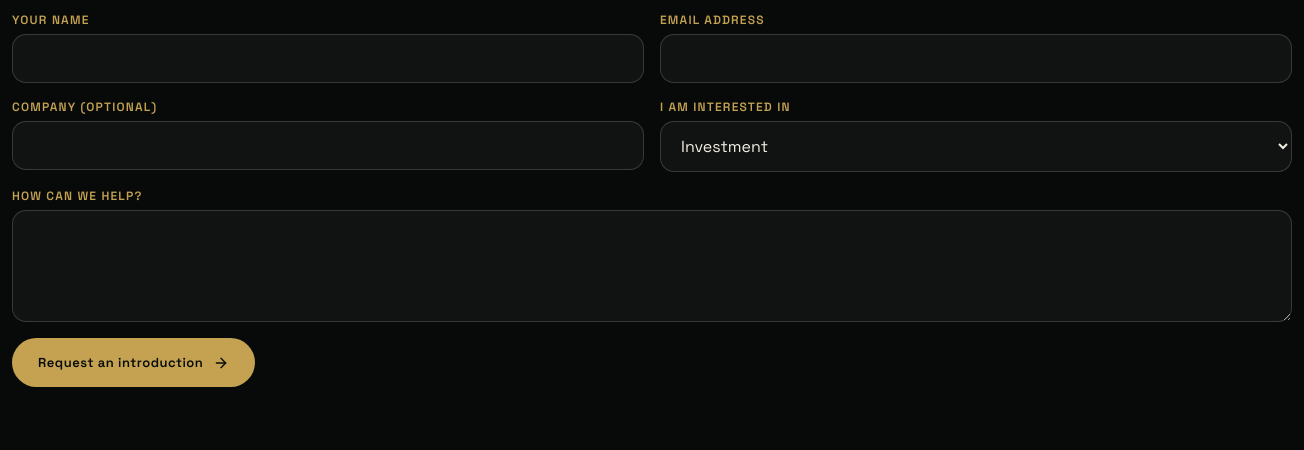
ContactForm › shows validation errors and does not submit an empty form
This screenshot has width=1304, height=450.
Click the button "Request an introduction".
click(134, 362)  # box [12,338,255,387]
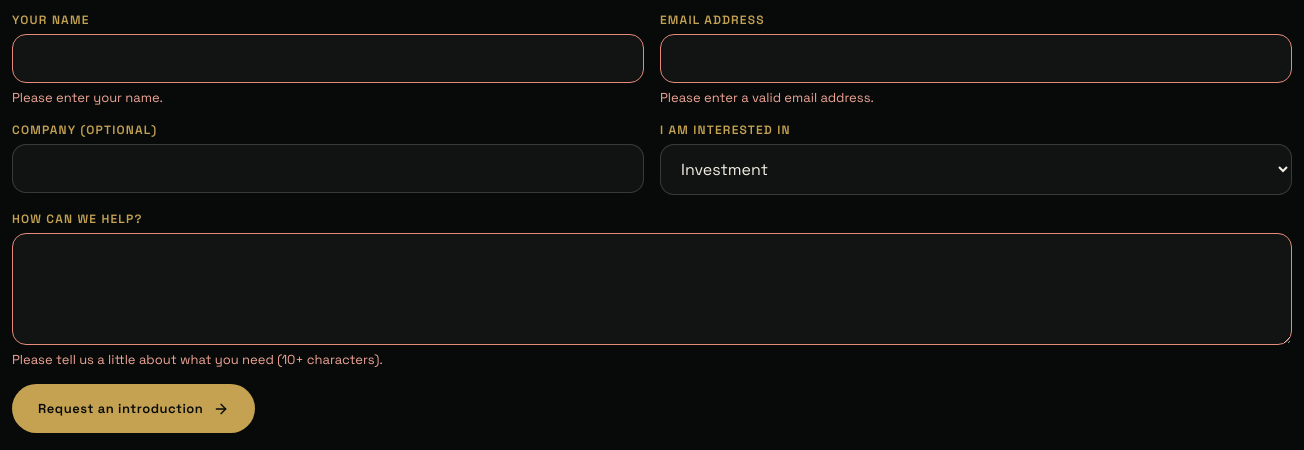
Check: the text "Please enter your name." is shown, box [12,89,163,106]
Check: the text "Please enter a valid email address." is shown, box [660,89,874,106]
